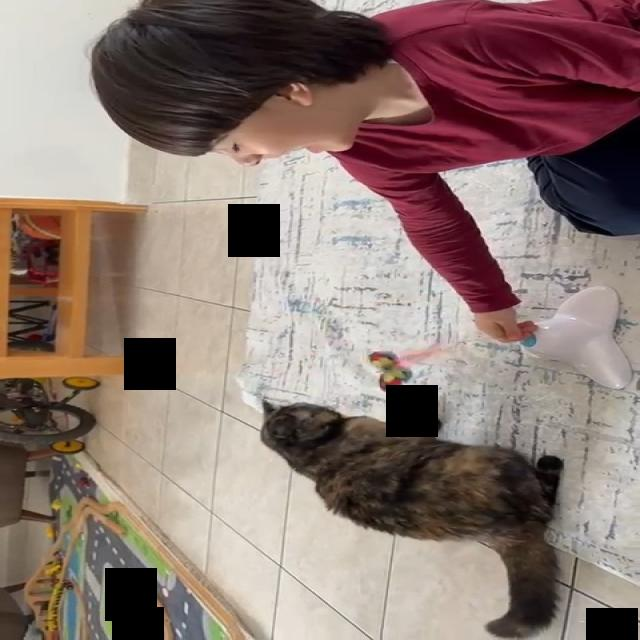authorized: (259, 397, 564, 638)
